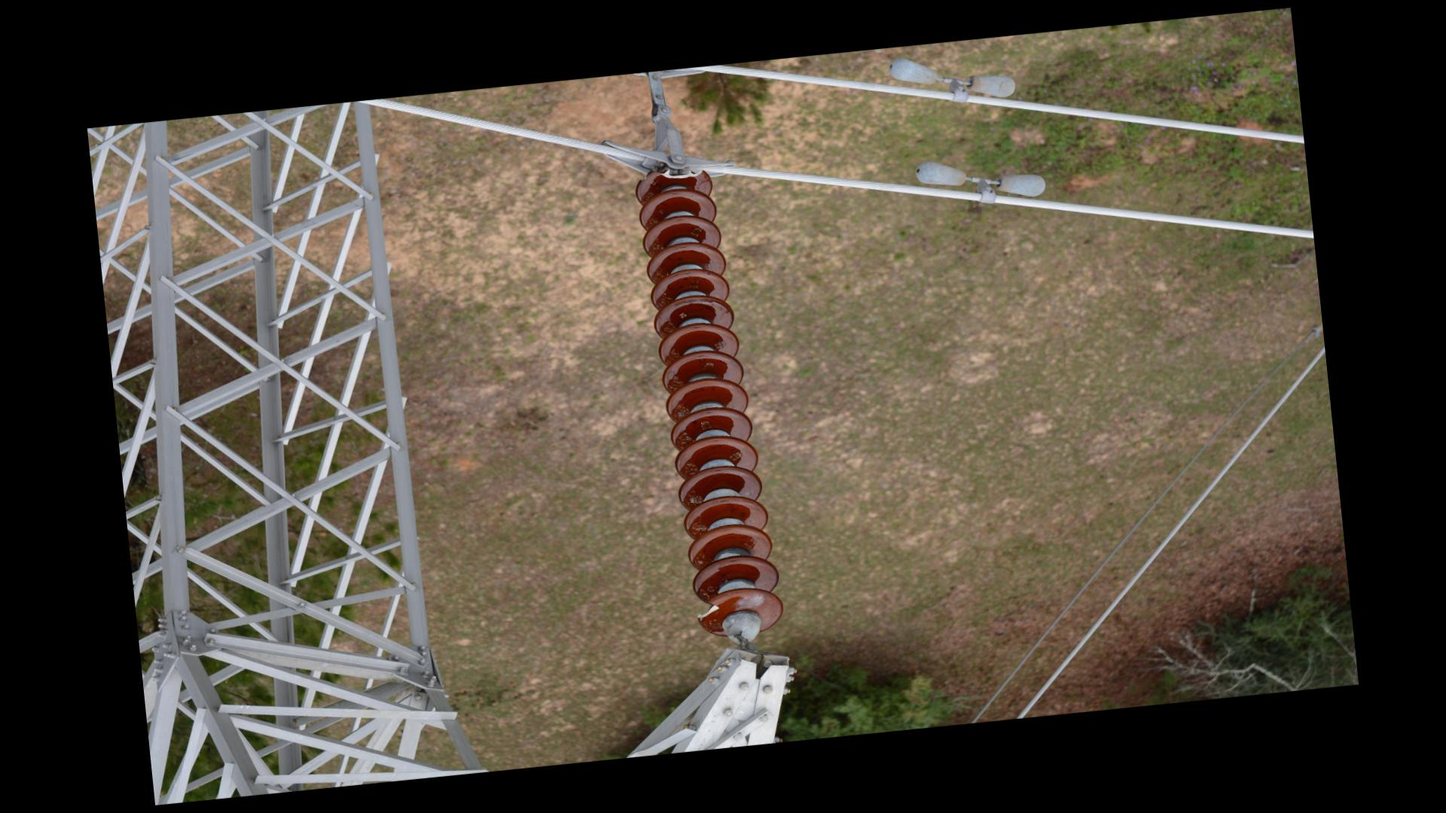damper: (911, 145, 1049, 215), (885, 44, 1020, 114)
